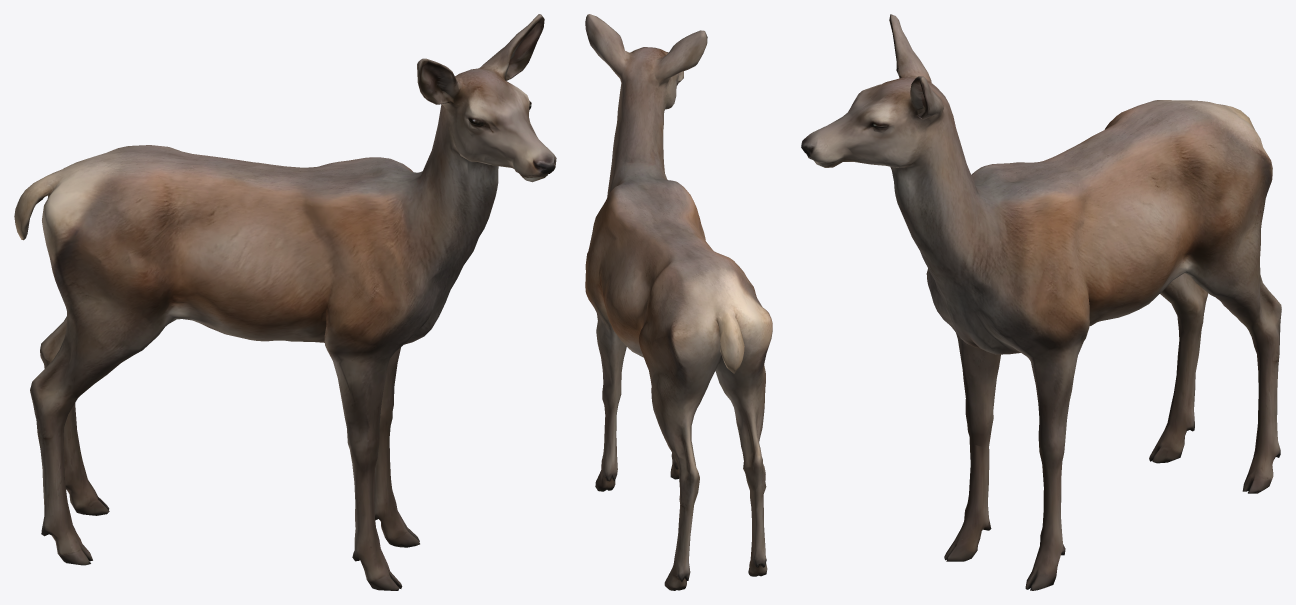
3 views of the same model, side by side, from view 1: azimuth 30°, elevation 25°; view 2: azimuth 150°, elevation 25°; view 3: azimuth 270°, elevation 25° (orthographic). The views are drawn at different scales.
Visible parts, largest first — view 1: tripo_node_79d7fb5d-6c24-4086-afc2-386204a031f9; view 2: tripo_node_79d7fb5d-6c24-4086-afc2-386204a031f9; view 3: tripo_node_79d7fb5d-6c24-4086-afc2-386204a031f9.
Part boxes in pixels (x1=…): tripo_node_79d7fb5d-6c24-4086-afc2-386204a031f9: x1=14, y1=14, x2=556, y2=590; tripo_node_79d7fb5d-6c24-4086-afc2-386204a031f9: x1=585, y1=14, x2=772, y2=590; tripo_node_79d7fb5d-6c24-4086-afc2-386204a031f9: x1=801, y1=14, x2=1281, y2=590.
Bounding box in the file's own units: 0.7017 × 1 × 0.7972.
Materials: 1 (1 with a texture image).
